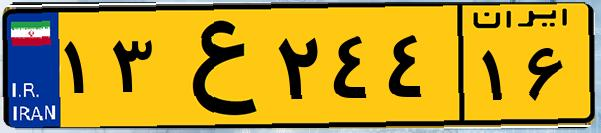1: (57, 26, 110, 100), (475, 38, 525, 113)
2: (270, 28, 330, 110)
3: (110, 28, 158, 98)
4: (385, 28, 445, 110), (330, 28, 385, 110)
6: (525, 38, 570, 115)
ع: (158, 12, 270, 120)
